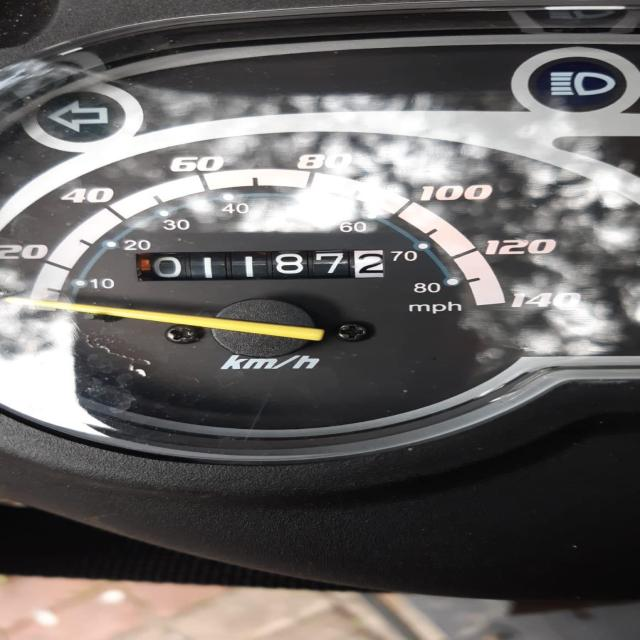odometer: (131, 248, 391, 285)
